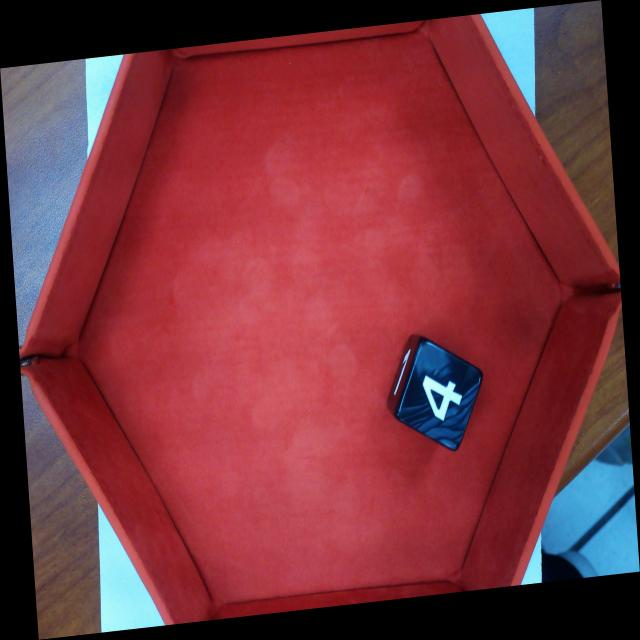dice: (396, 339, 485, 453)
